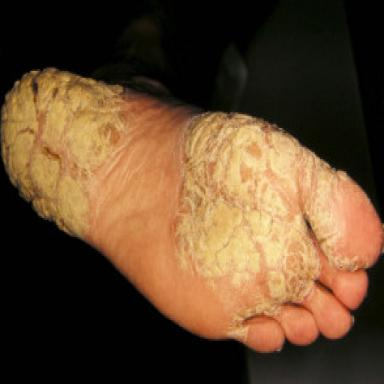eczema: (175, 113, 359, 340), (3, 69, 125, 242)
